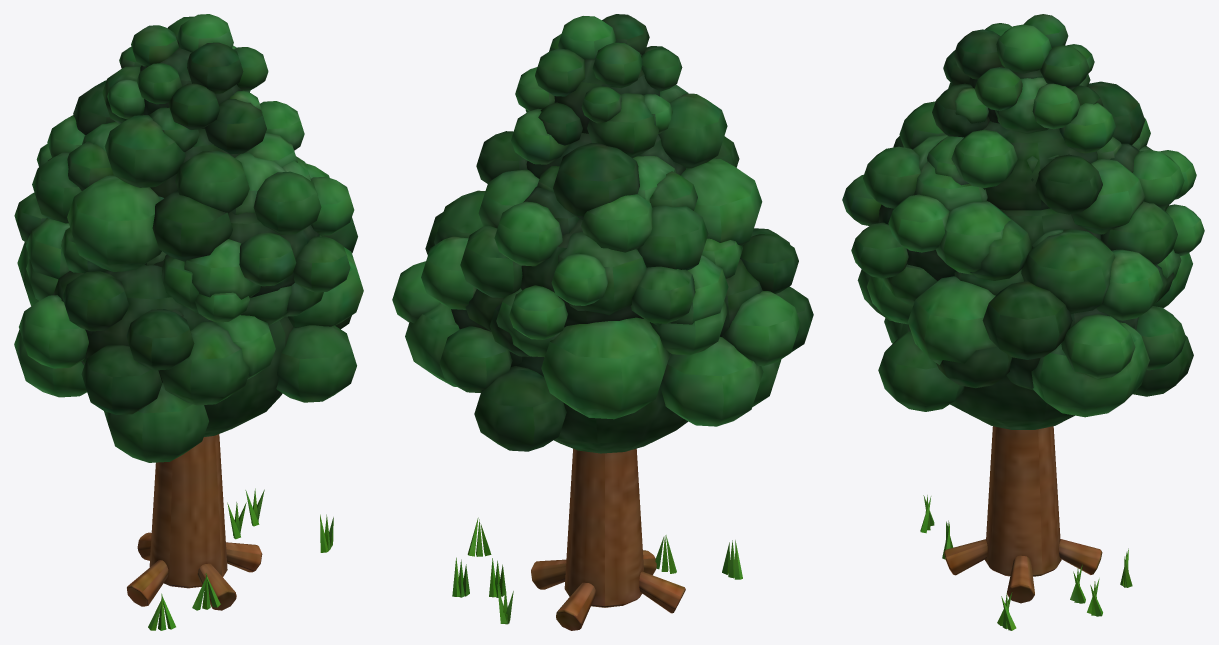
File: nutmeg_tree.glb
3 renders of one model, left to right at view 1: azimuth 30°, elevation 25°; view 2: azimuth 150°, elevation 25°; view 3: azimuth 270°, elevation 25°, orthographic. The views are drawn at different scales.
Parts seen in each view (by area): view 1: crown, nutmeg_tree; view 2: crown, nutmeg_tree; view 3: crown, nutmeg_tree.
Boxes of the visible parts, box(x1,y1,x2,y2) form: crown: box(14, 14, 363, 462); nutmeg_tree: box(127, 434, 333, 630); crown: box(392, 14, 813, 453); nutmeg_tree: box(452, 448, 742, 630); crown: box(842, 14, 1204, 429); nutmeg_tree: box(920, 426, 1132, 630).
Size of the model in its own units: 0.9076 by 1.43 by 0.8441.
1 material, 1 textured.
